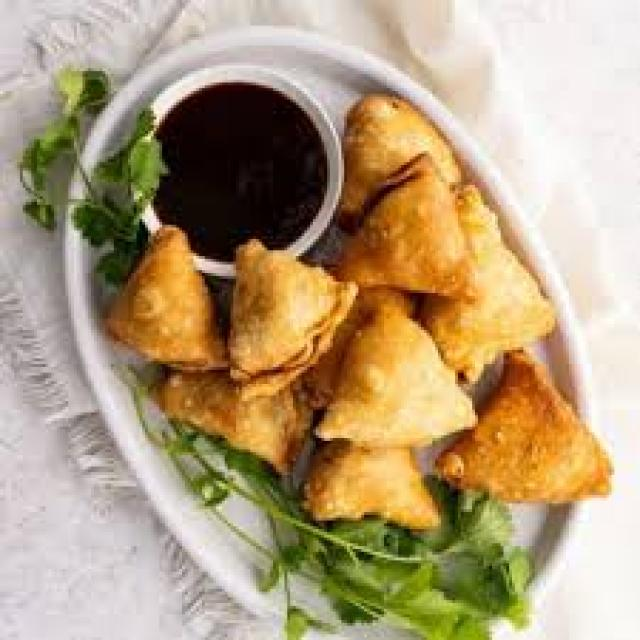SAMOSA: (426, 181, 556, 386), (438, 358, 615, 496), (314, 295, 476, 442), (236, 246, 364, 397), (331, 170, 484, 296), (103, 229, 225, 366), (338, 93, 462, 222), (303, 436, 441, 527)
